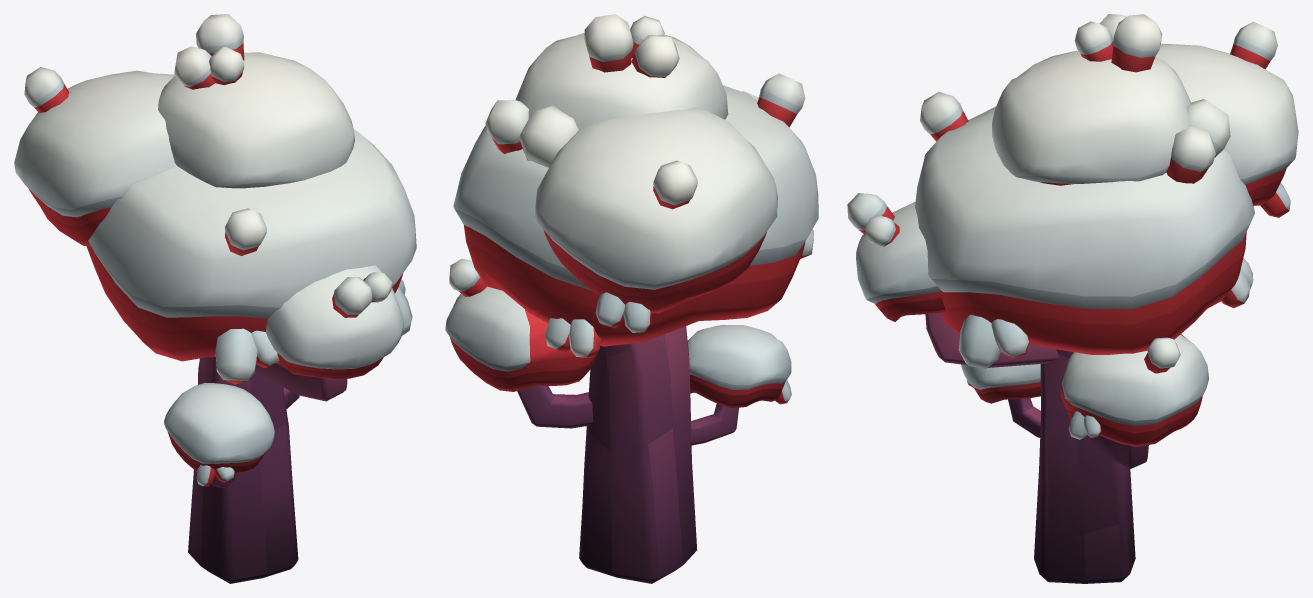
Rendered from grassland_tree_col3_4_snow.fbx.
3 views of the same model, side by side, from view 1: azimuth 30°, elevation 25°; view 2: azimuth 150°, elevation 25°; view 3: azimuth 270°, elevation 25° (orthographic). The views are drawn at different scales.
Parts seen in each view (by area): view 1: grassland_tree_col3_4_snow; view 2: grassland_tree_col3_4_snow; view 3: grassland_tree_col3_4_snow.
Boxes of the visible parts, x1,y1,x2,y2 form: grassland_tree_col3_4_snow: (14,14,416,583); grassland_tree_col3_4_snow: (445,14,818,583); grassland_tree_col3_4_snow: (847,14,1298,583).
Size of the model in its own units: 540 by 917 by 681.
Materials: 1 (1 with a texture image).
